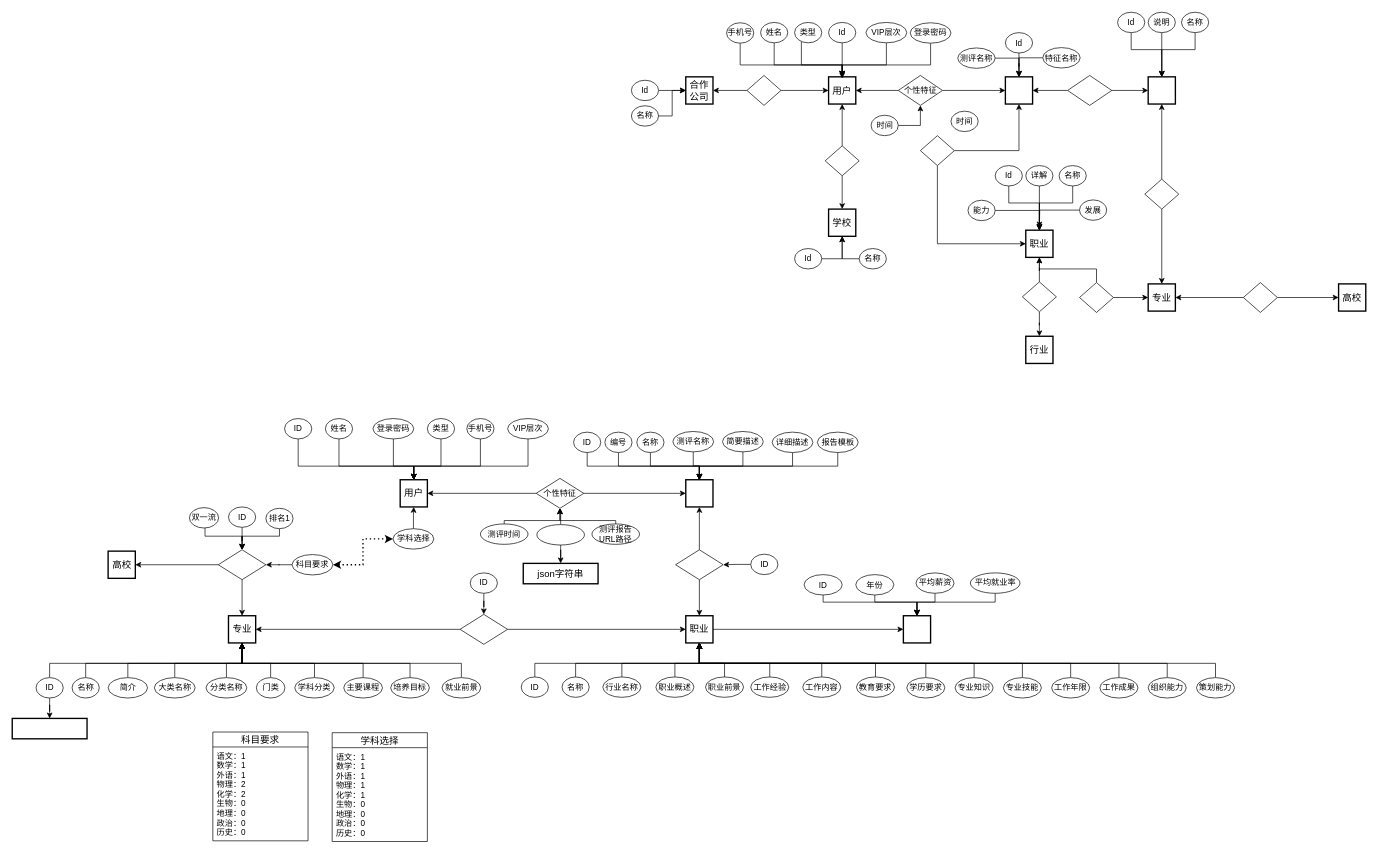
Some shapes in this 1378 by 855 pixel diagram are drawn without their labels. The shapes that lost their labels are listed below. From the top down, each one's centre as x and y in pixels, then its label:
At point (1018, 90): "性格特征".
At point (1161, 90): "学科".
At point (699, 493): "特征".
At point (560, 534): "测评分值".
At point (242, 564): "高校专业".
At point (699, 564): "特征职业".
At point (483, 629): "专业职业".
At point (916, 629): "职业发展".
At point (49, 728): "用专业代码表示".
